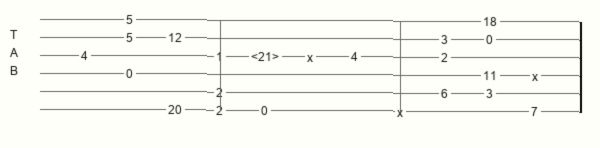0: (126, 68, 137, 81), (261, 104, 272, 117), (486, 32, 497, 45)
1: (216, 50, 227, 63)
11: (483, 68, 501, 81)
12: (168, 32, 186, 45)
18: (483, 14, 501, 27)
2: (216, 86, 227, 99), (216, 104, 227, 117), (441, 50, 452, 63)
20: (168, 104, 186, 117)
3: (441, 32, 452, 45), (486, 86, 497, 99)
4: (81, 50, 92, 63), (351, 50, 362, 63)
5: (126, 32, 137, 45), (126, 14, 137, 27)
6: (441, 86, 452, 99)
7: (531, 104, 542, 117)
harmonic: (251, 50, 283, 63)
x: (307, 51, 317, 62), (397, 105, 407, 116), (532, 69, 542, 80)
